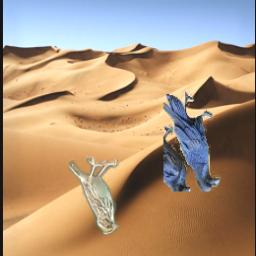Crow: (162, 91, 221, 191)
Sparrow: (68, 158, 118, 235)
